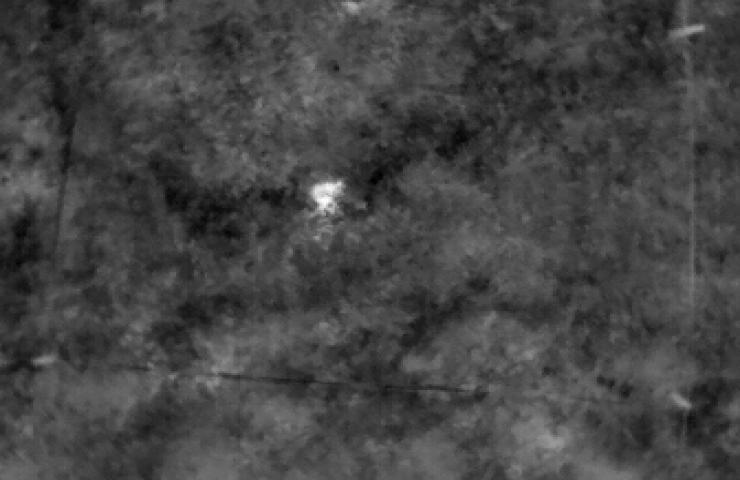landmines: (308, 178, 349, 220)
